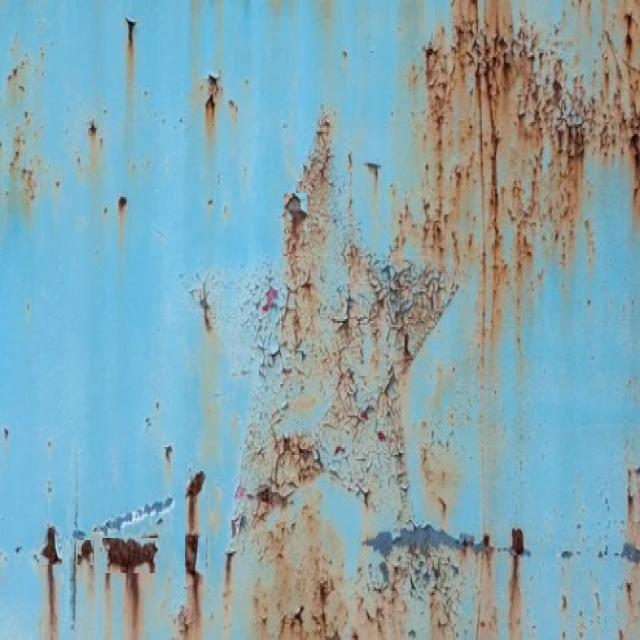Corrosion: (235, 114, 458, 536), (399, 0, 640, 372), (77, 472, 208, 640), (33, 498, 175, 574), (417, 462, 511, 546)
